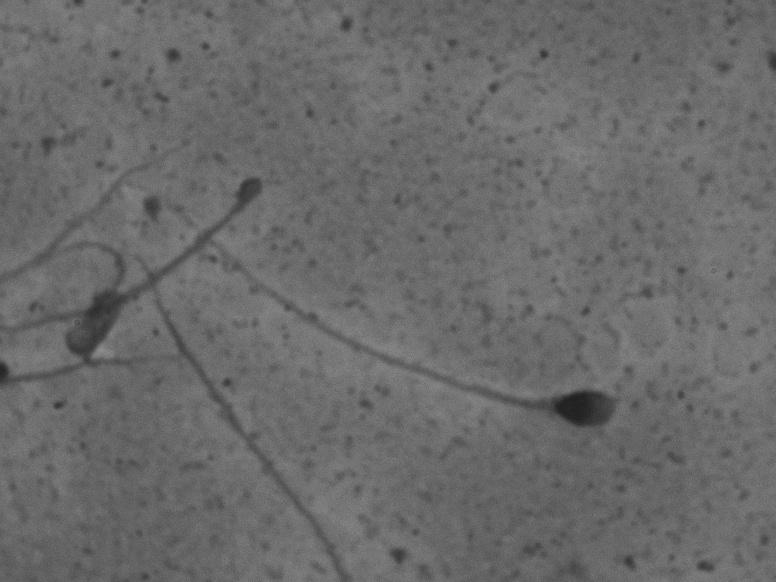Normal: (149, 190, 625, 439)
